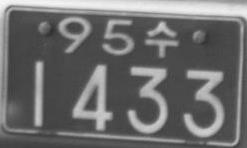1: (22, 62, 56, 127)
3: (182, 69, 226, 139), (127, 65, 168, 135)
4: (72, 64, 113, 131)
5: (101, 18, 136, 56)
9: (57, 15, 92, 53)
수: (145, 20, 179, 57)
